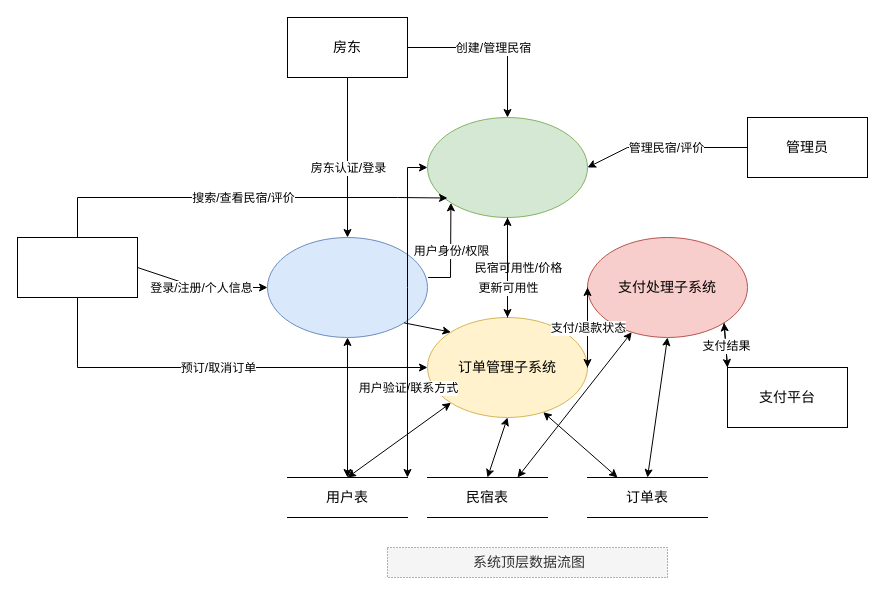
The diagram is 885 pixels wide and 595 high, and some of its shapes have lost their labels. Each missing label, with the box of its shape:
普通用户: (16, 236, 138, 298)
民宿管理子系统: (426, 116, 588, 218)
用户管理子系统: (266, 236, 428, 338)
